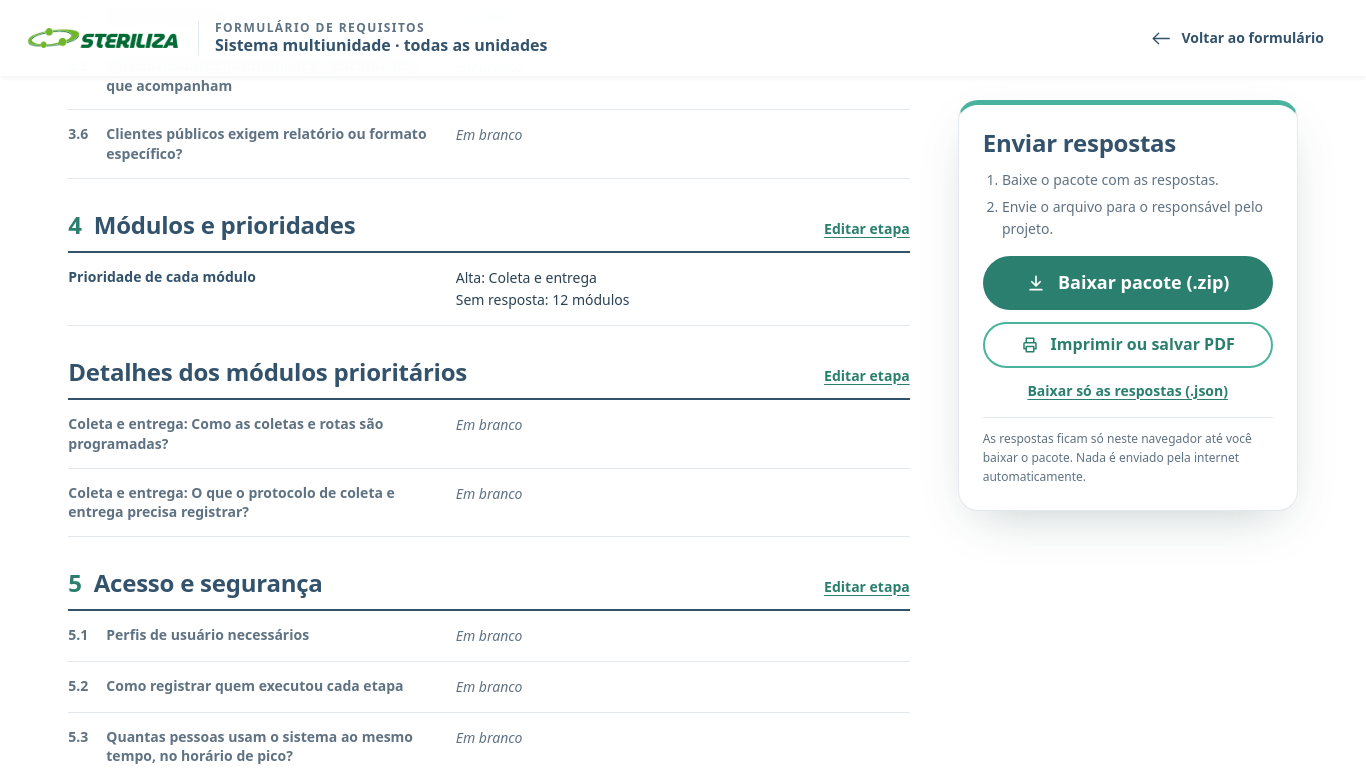
Test case: fluxo completo › revisa os detalhes dos módulos em prioridade alta e volta direto para um deles
(page scrolled)
Step 1. Click the button "Coleta e entrega: Como as coletas e rotas são programadas?" → point(254, 434), box [68,414,440,454]
(page scrolled)
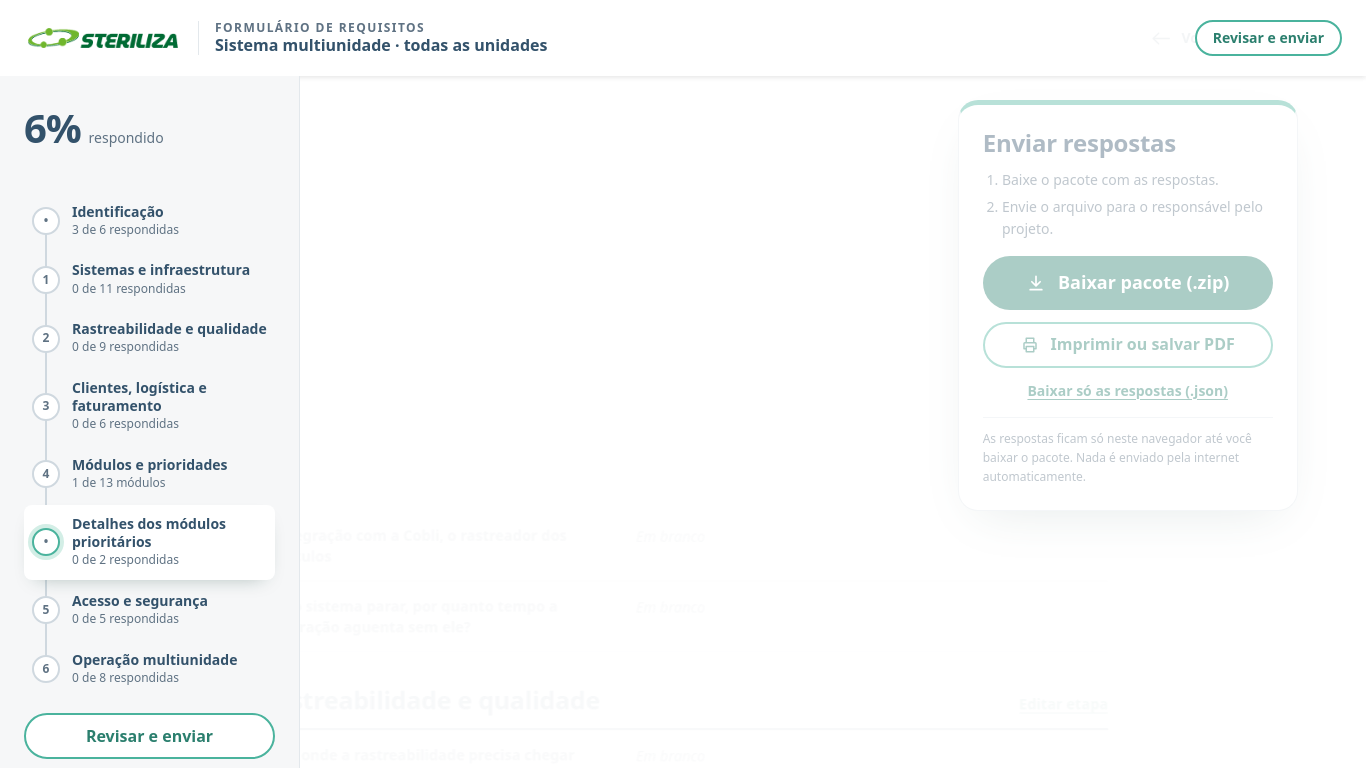
Check: the heading "Detalhes dos módulos prioritários" is shown, box [368,159,1132,226]
